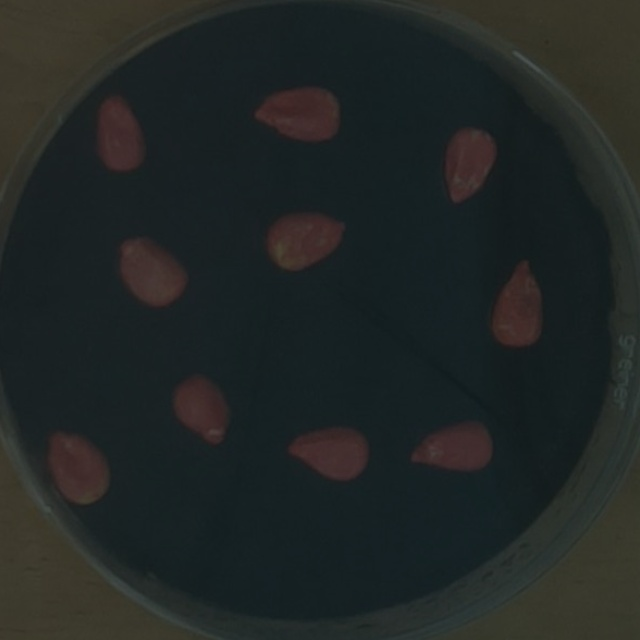Zea mays: (244, 76, 349, 150), (108, 227, 197, 314), (259, 201, 353, 279), (38, 422, 119, 512), (279, 417, 376, 490), (402, 410, 499, 481), (485, 250, 551, 354), (436, 117, 507, 213), (167, 363, 239, 451), (88, 87, 153, 179)
